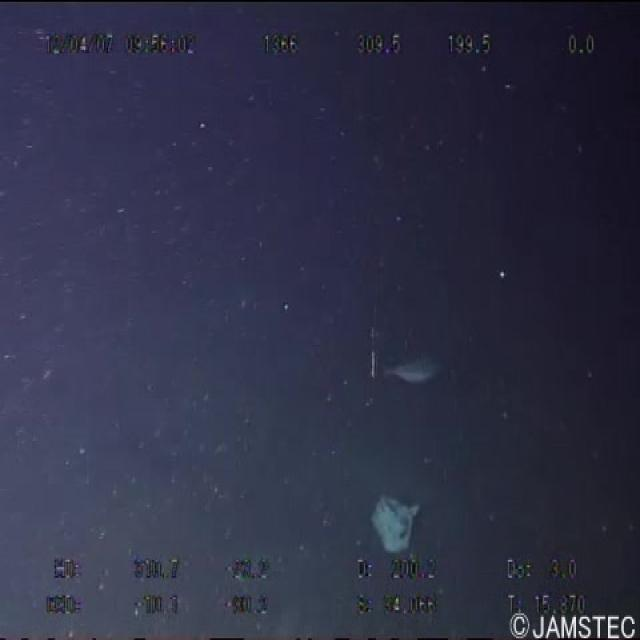plastic: (367, 487, 422, 553)
